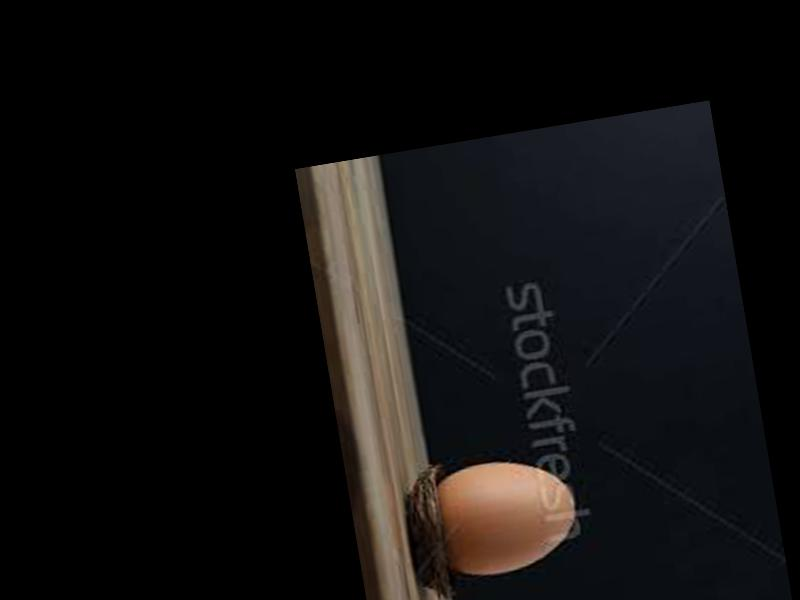Eggs: (431, 452, 583, 583)
